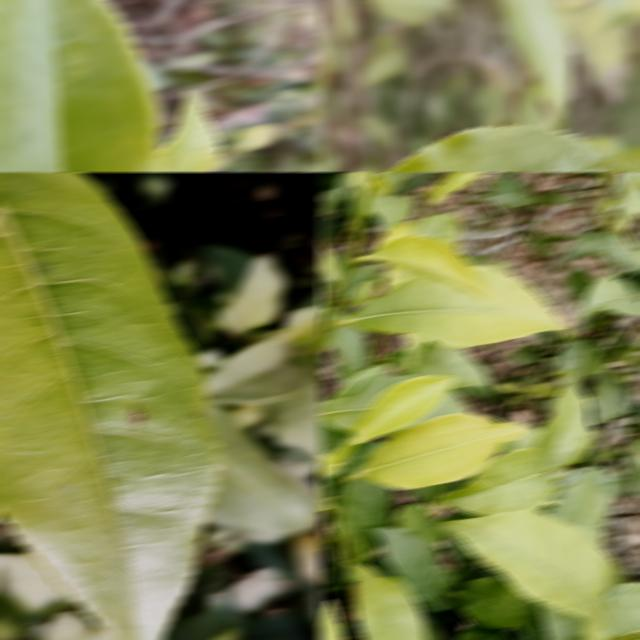Leaf: (0, 172, 221, 640), (0, 0, 161, 172), (442, 509, 615, 640), (343, 266, 568, 348), (205, 401, 322, 531), (354, 412, 529, 489), (363, 234, 498, 303), (498, 0, 573, 122), (201, 243, 287, 336), (439, 448, 558, 514), (204, 337, 314, 404), (369, 527, 456, 610), (349, 376, 455, 443), (345, 564, 427, 640), (452, 577, 549, 640), (263, 373, 322, 476), (533, 378, 594, 473), (380, 341, 492, 392), (318, 374, 412, 433), (155, 91, 221, 172), (548, 471, 612, 545), (339, 478, 392, 564), (564, 231, 640, 270), (578, 275, 640, 320), (326, 326, 372, 384), (588, 369, 632, 424), (555, 465, 626, 498), (555, 338, 609, 381), (281, 289, 322, 340), (605, 581, 640, 640), (368, 0, 450, 25), (366, 193, 416, 233), (396, 503, 444, 544), (427, 172, 482, 207), (479, 174, 534, 206), (537, 603, 584, 640), (415, 391, 471, 422), (291, 534, 322, 585), (455, 624, 534, 640), (617, 181, 639, 230), (318, 242, 339, 282), (628, 436, 640, 495), (377, 172, 406, 189)
